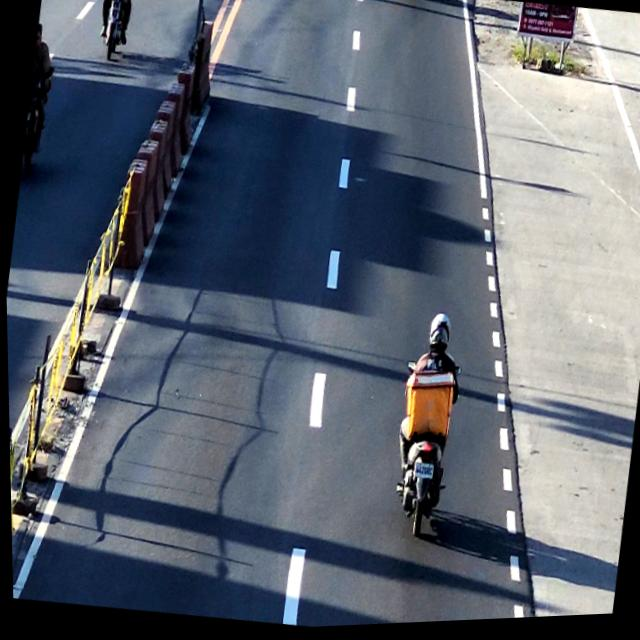License-Plate: (411, 464, 432, 482)
Motorcycle: (380, 311, 470, 559)
